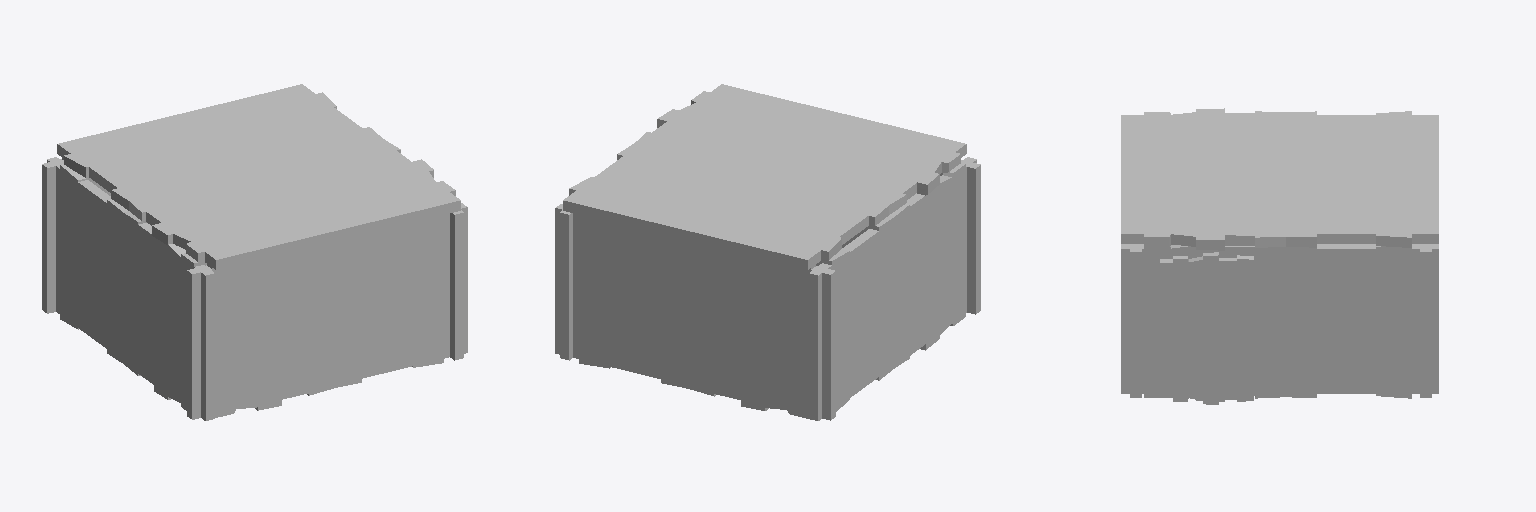
File: ShackPigAlien.obj
3 views of the same model, side by side, from view 1: azimuth 30°, elevation 25°; view 2: azimuth 150°, elevation 25°; view 3: azimuth 270°, elevation 25° (orthographic).
Visible parts, largest first — view 1: WoodenFence:WoodenFence:Shack; view 2: WoodenFence:WoodenFence:Shack; view 3: WoodenFence:WoodenFence:Shack.
Part boxes in pixels (bbox=[...]): WoodenFence:WoodenFence:Shack: bbox=[42, 84, 467, 420]; WoodenFence:WoodenFence:Shack: bbox=[555, 84, 980, 420]; WoodenFence:WoodenFence:Shack: bbox=[1121, 108, 1438, 404].
Size of the model in its own units: 6.4 by 3.67 by 6.36.